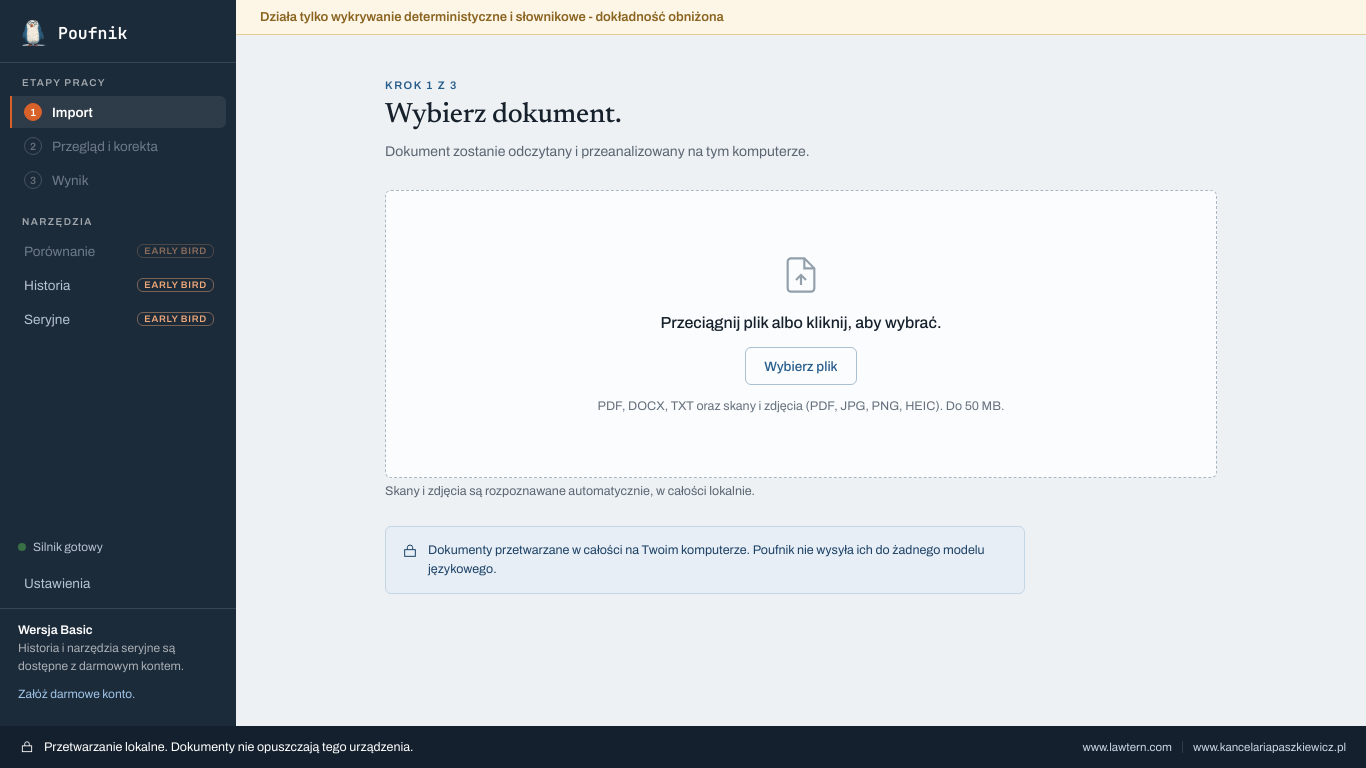
App engine health › degrades an expired stored token to Basic
Expected: the heading "Wybierz dokument." is shown, [385, 101, 621, 129]
Click the button "Ustawienia" at x=118, y=584, box [10, 568, 226, 600]
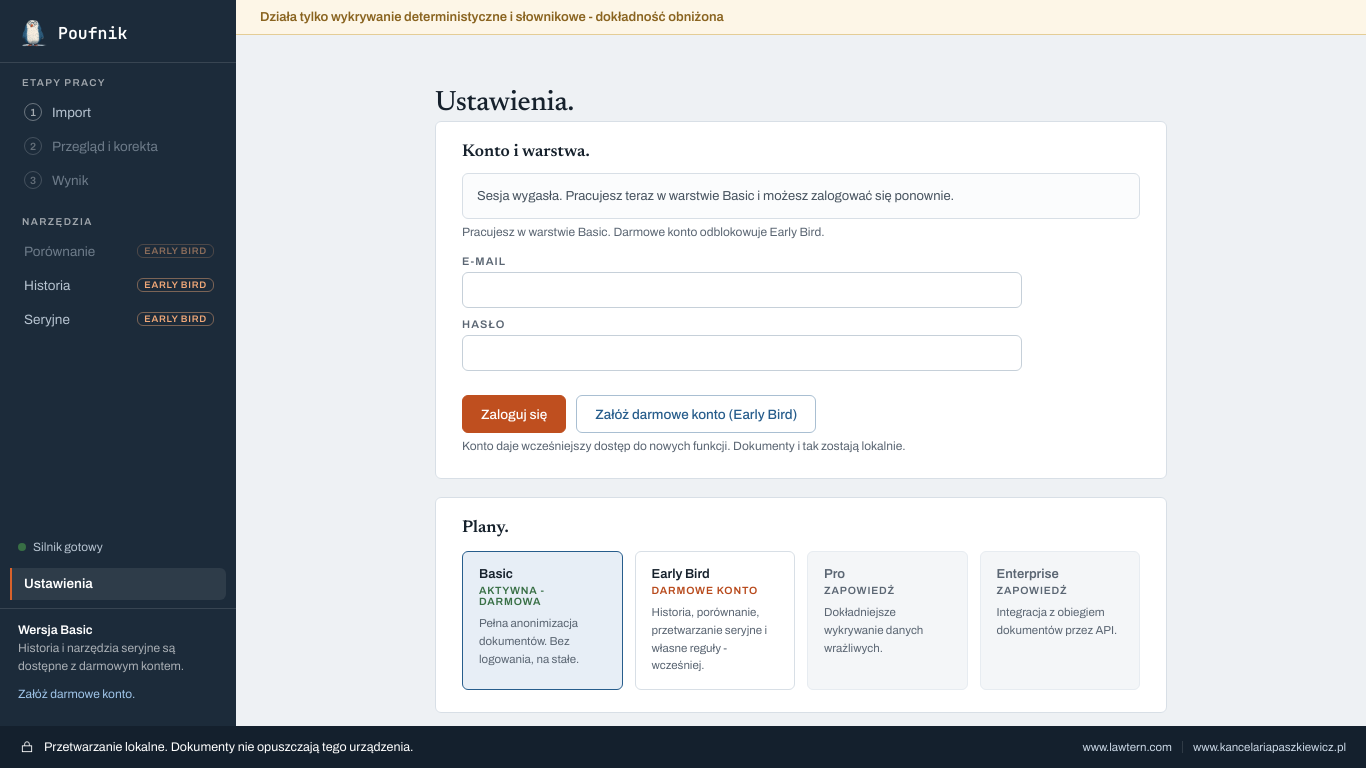
Result: the text "Sesja wygasła. Pracujesz teraz w warstwie Basic i możesz zalogować się ponownie." is shown at [462, 173, 1140, 219]
